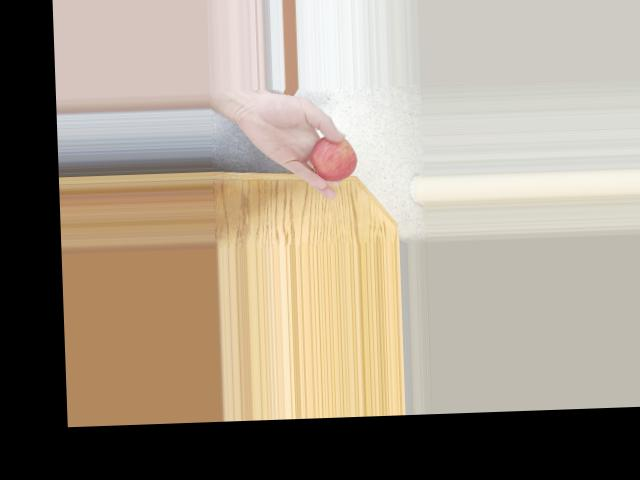apple: (306, 134, 357, 182)
